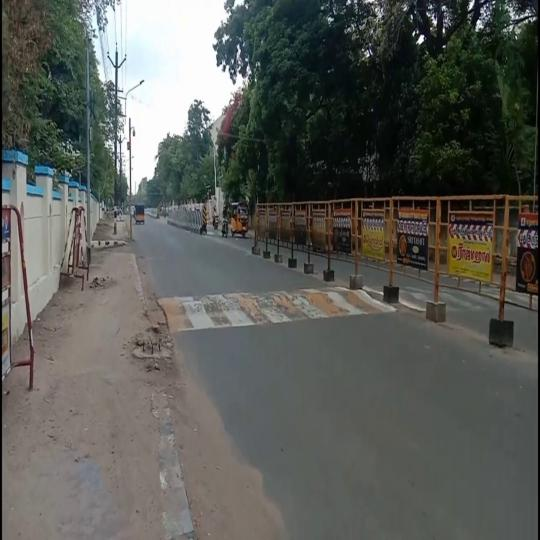Speed Bump: (155, 286, 398, 334)
